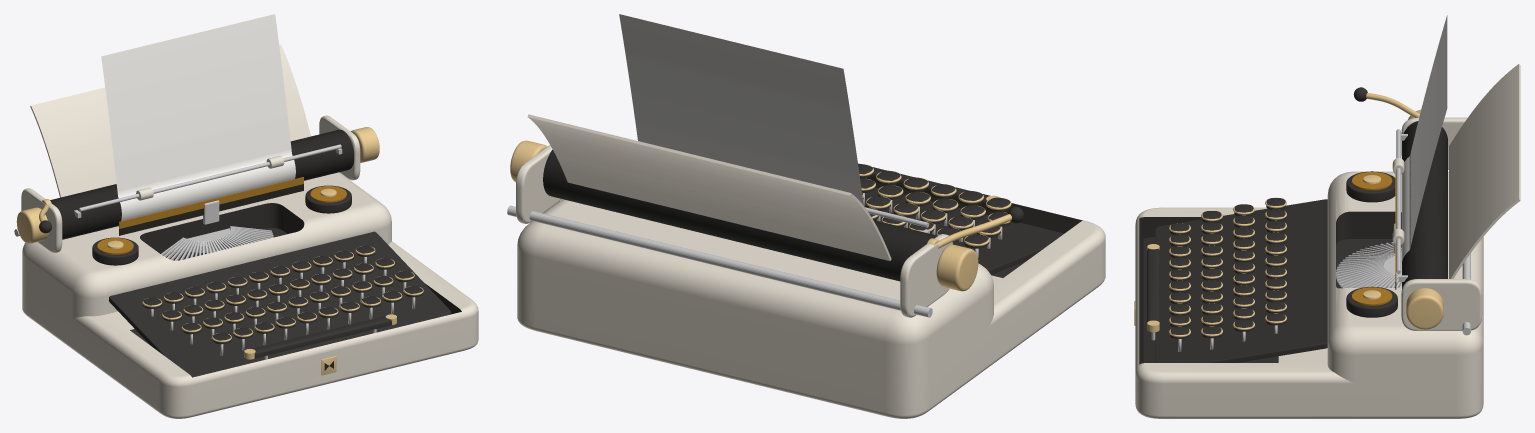
File: typewriter.glb
The picture shows the model from 3 angles, left to right: view 1: azimuth 30°, elevation 25°; view 2: azimuth 150°, elevation 25°; view 3: azimuth 270°, elevation 25°; orthographic projection. The views are drawn at different scales.
Parts seen in each view (by area): view 1: body, sheet, carriage, space_mesh; view 2: body, carriage, sheet, lever_mesh, space_mesh; view 3: body, carriage, sheet, space_mesh, lever_mesh.
Boxes of the visible parts, x1,y1,x2,y2 form: body: (22,172,478,418); sheet: (101,14,295,226); carriage: (14,44,379,252); space_mesh: (244,314,396,359); body: (517,180,1105,418); carriage: (507,114,978,317); sheet: (619,14,863,204); lever_mesh: (927,206,1023,248); space_mesh: (858,163,999,207); body: (1134,171,1483,418); carriage: (1392,64,1520,335); sheet: (1401,15,1447,269); space_mesh: (1147,244,1159,340); lever_mesh: (1353,87,1419,117).
Bounding box in the file's own units: 0.3322 × 0.2189 × 0.2773.
